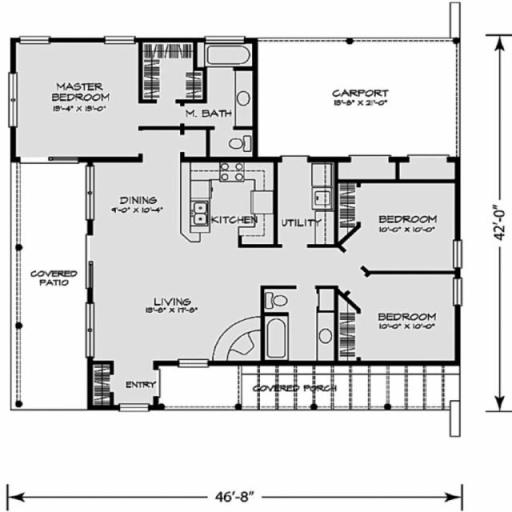Room: (99, 166, 176, 253)
bedroom: (21, 43, 139, 158), (352, 274, 452, 365), (349, 188, 449, 266)
hall: (101, 259, 255, 355)
kitchen: (186, 166, 268, 250)
porch: (256, 43, 452, 157), (157, 371, 447, 416)
